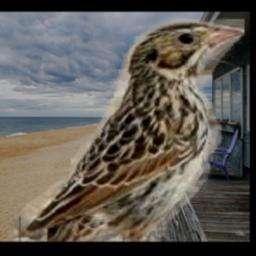Sparrow: (14, 19, 245, 242)
